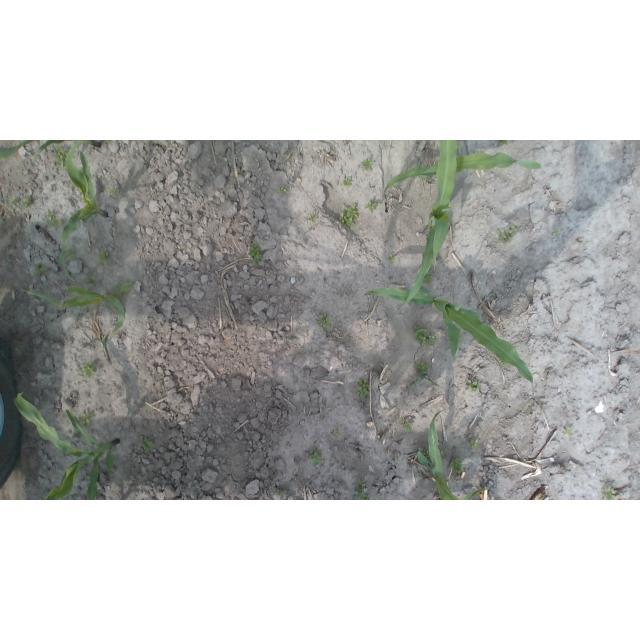Maize: (363, 281, 536, 416), (13, 392, 121, 500), (400, 140, 458, 306), (382, 151, 543, 202), (60, 140, 111, 282), (416, 409, 488, 500), (20, 282, 135, 334), (0, 141, 102, 166)
Weeds: (409, 362, 439, 389), (413, 326, 436, 348), (339, 203, 359, 226), (496, 224, 518, 244), (99, 331, 112, 361), (53, 143, 69, 167), (353, 480, 371, 500), (308, 445, 324, 467), (77, 362, 96, 378), (248, 244, 262, 265), (46, 211, 62, 228), (449, 458, 464, 474), (139, 436, 154, 452), (357, 379, 370, 397), (79, 412, 94, 427), (600, 486, 616, 500), (316, 313, 330, 329), (365, 199, 381, 213), (465, 380, 481, 393), (360, 157, 373, 171), (401, 418, 412, 434), (107, 186, 119, 199), (34, 264, 46, 277), (423, 272, 434, 285), (85, 274, 97, 285), (468, 439, 479, 450), (98, 251, 108, 263), (65, 250, 77, 260), (563, 426, 573, 436), (343, 177, 353, 187), (309, 212, 318, 222), (419, 447, 430, 455), (277, 186, 287, 194), (333, 430, 341, 439), (23, 197, 30, 207), (499, 140, 509, 146), (578, 237, 584, 247), (388, 254, 395, 262), (500, 361, 508, 368), (554, 227, 560, 236), (9, 200, 16, 207), (277, 489, 283, 495), (289, 336, 294, 341)
